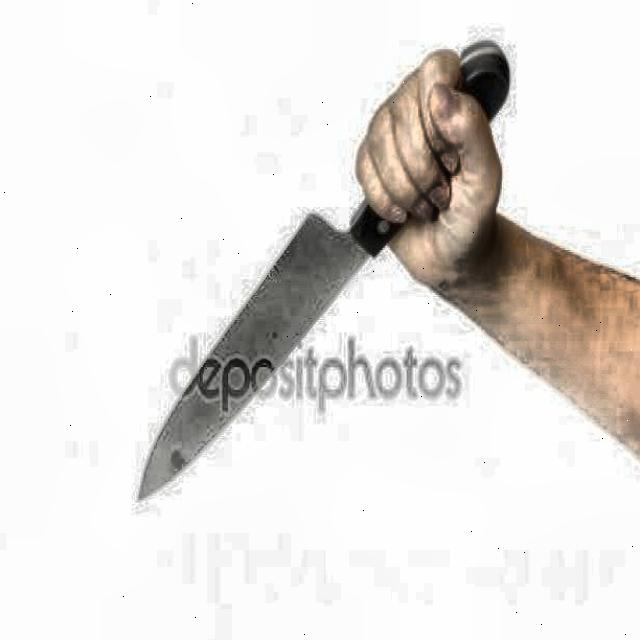knife: (138, 42, 512, 492)
